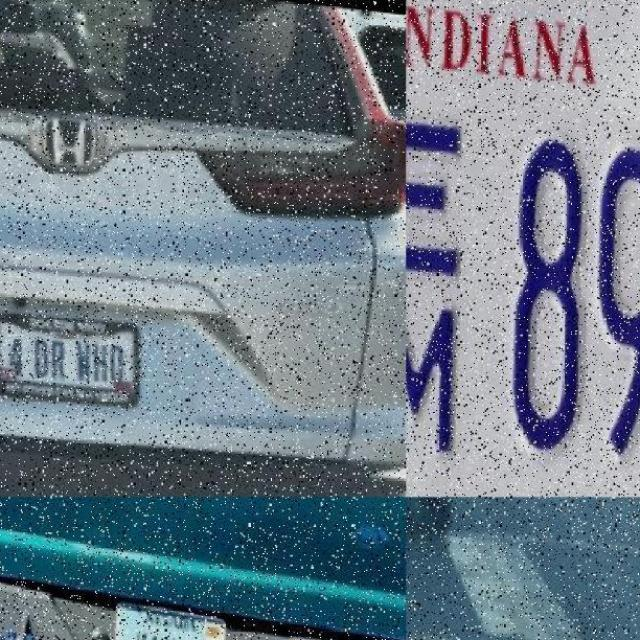license-plate: (408, 0, 640, 503), (0, 311, 147, 403), (124, 596, 239, 640)
